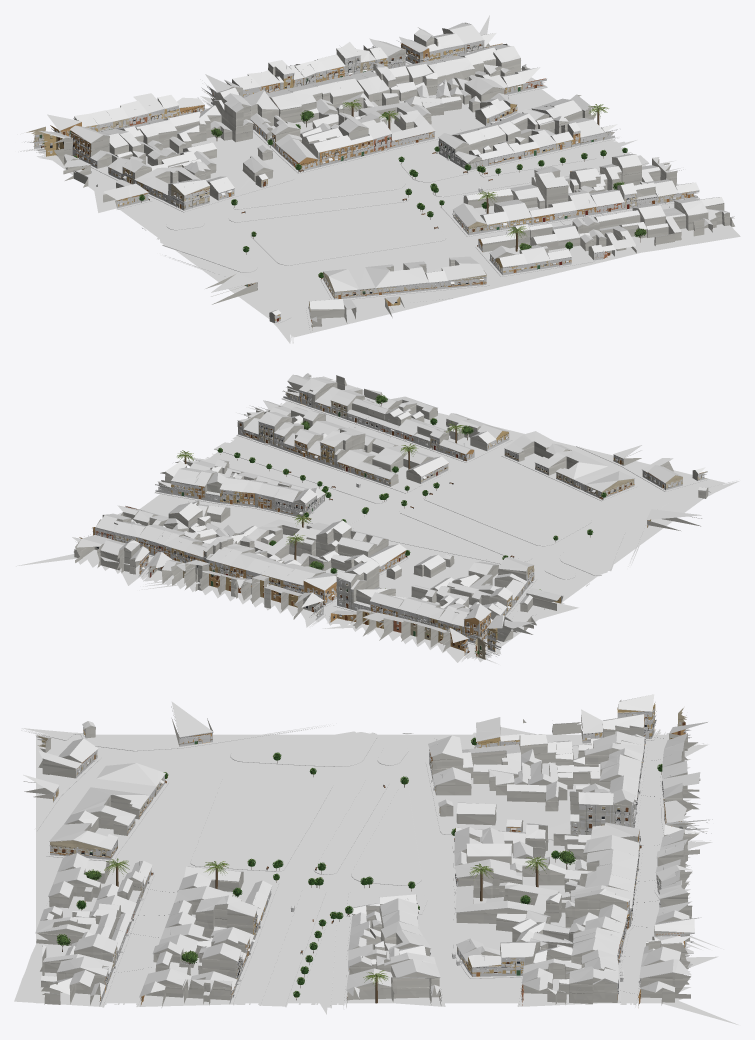
The model's file is zona_-1_-3.glb.
3 renders of one model, top to bottom at view 1: azimuth 30°, elevation 25°; view 2: azimuth 150°, elevation 25°; view 3: azimuth 270°, elevation 25°, orthographic. The views are drawn at different scales.
Visible parts, largest first — view 1: z_calle_-1_-3, z_tejados_-1_-3, z_casas_-1_-3, z_fachadas_-1_-3, z_suelo_-1_-3, z_arboles_-1_-3, z_detalles_pueblo_-1_-3, z_casas_planas_-1_-3; view 2: z_calle_-1_-3, z_tejados_-1_-3, z_casas_-1_-3, z_fachadas_-1_-3, z_suelo_-1_-3, z_arboles_-1_-3, z_detalles_pueblo_-1_-3, z_casas_planas_-1_-3; view 3: z_calle_-1_-3, z_tejados_-1_-3, z_casas_-1_-3, z_suelo_-1_-3, z_fachadas_-1_-3, z_arboles_-1_-3, z_casas_planas_-1_-3.
Part boxes in pixels (x1,y1,x2,y2): z_calle_-1_-3: (18, 15, 740, 343); z_tejados_-1_-3: (29, 22, 734, 321); z_casas_-1_-3: (26, 22, 734, 327); z_fachadas_-1_-3: (25, 40, 699, 328); z_suelo_-1_-3: (36, 110, 672, 246); z_arboles_-1_-3: (43, 99, 646, 279); z_detalles_pueblo_-1_-3: (35, 47, 697, 280); z_casas_planas_-1_-3: (203, 101, 683, 252); z_calle_-1_-3: (16, 376, 739, 664); z_tejados_-1_-3: (72, 373, 708, 642); z_casas_-1_-3: (74, 375, 708, 659); z_fachadas_-1_-3: (92, 390, 707, 659); z_suelo_-1_-3: (148, 400, 545, 658); z_arboles_-1_-3: (177, 394, 606, 654); z_detalles_pueblo_-1_-3: (109, 396, 604, 655); z_casas_planas_-1_-3: (195, 391, 452, 608); z_calle_-1_-3: (14, 722, 738, 1024); z_tejados_-1_-3: (23, 694, 712, 998); z_casas_-1_-3: (23, 700, 700, 1007); z_suelo_-1_-3: (105, 732, 668, 1004); z_fachadas_-1_-3: (36, 708, 708, 1006); z_arboles_-1_-3: (56, 737, 662, 1003); z_casas_planas_-1_-3: (84, 809, 634, 1005).
Size of the model in its own units: 228 by 14.89 by 226.
